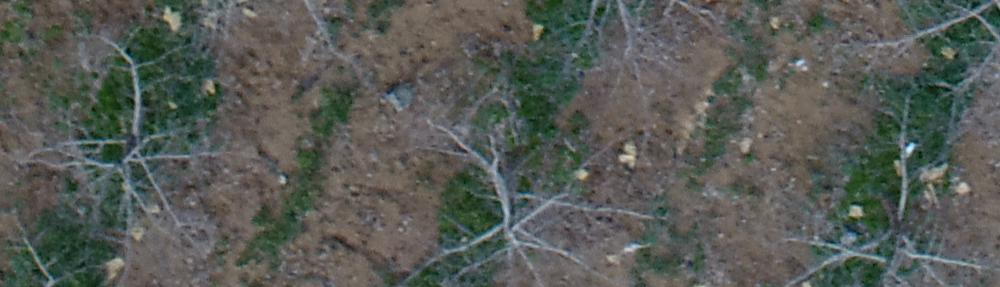apple: (380, 75, 689, 276), (10, 35, 259, 246)
